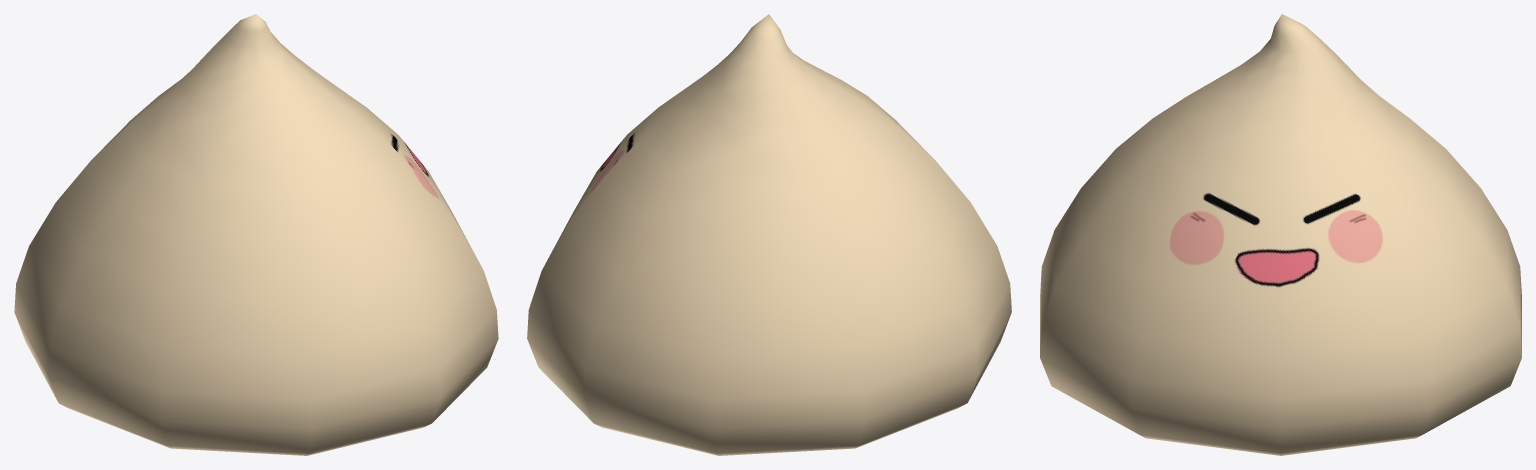
The model's file is dumpling fbx- pozitivni lik.fbx.
3 renders of one model, left to right at view 1: azimuth 30°, elevation 25°; view 2: azimuth 150°, elevation 25°; view 3: azimuth 270°, elevation 25°, orthographic.
Parts seen in each view (by area): view 1: dumpling; view 2: dumpling; view 3: dumpling.
Boxes of the visible parts, x1,y1,x2,y2 form: dumpling: (14, 14, 498, 455); dumpling: (527, 14, 1011, 455); dumpling: (1040, 14, 1521, 455).
Bounding box in the file's own units: 26.33 × 21.07 × 26.33.
Materials: 1 (1 with a texture image).
